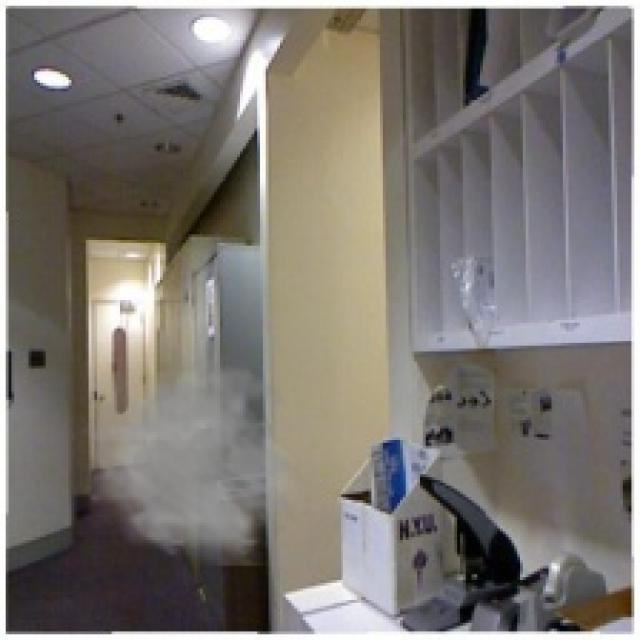smoke: (80, 348, 306, 566)
